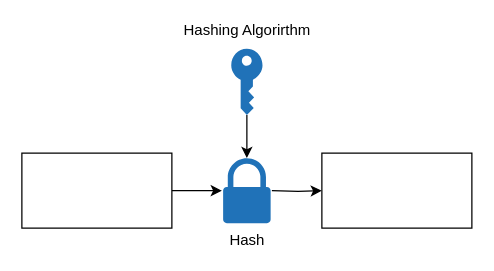
The diagram is 494 pixels wide and 271 high, and some of its shapes have lost their labels. Here are the shapes that lost their labels. From the top down, the centre of each, then its label:
(x=96, y=190): This is a secret!
(x=396, y=190): 0A576BE0 C43BA9EA
